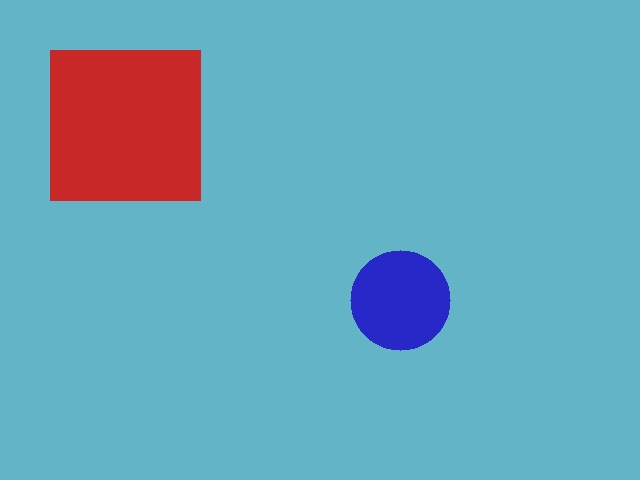motorcycle: (300, 150, 360, 250)
sedan: (80, 100, 240, 220)
tree: (10, 10, 60, 90)
